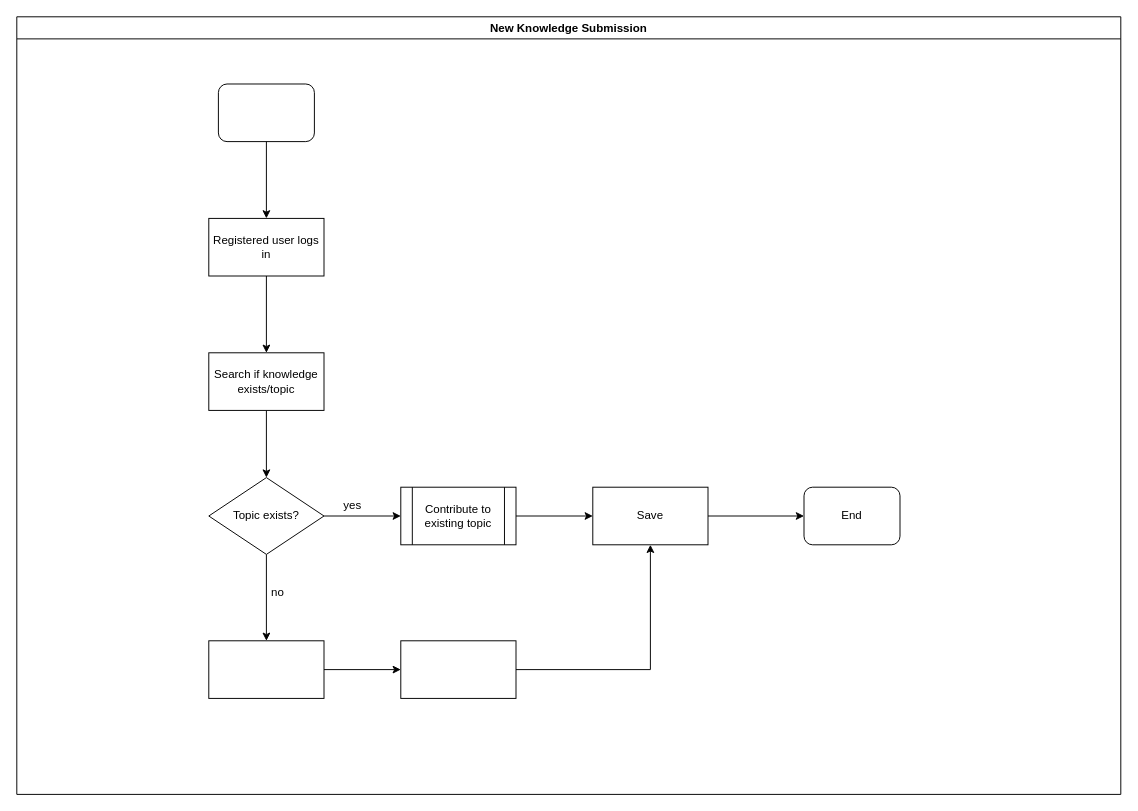
Some shapes in this 1138 by 811 pixel diagram are drawn without their labels. The shapes that lost their labels are listed below. From the top down, each one's box as (x1, y1, x2, y2) in pixels, then its label:
(217, 83, 314, 142): Start
(208, 640, 324, 698): Create new knowledge/topic
(400, 640, 516, 698): Add content to the new knowledge page/topic
